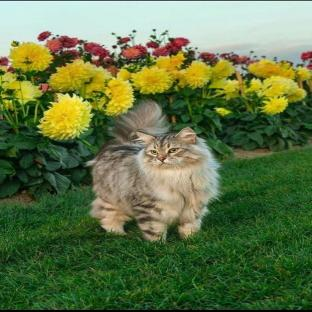Animal: (88, 101, 219, 241)
